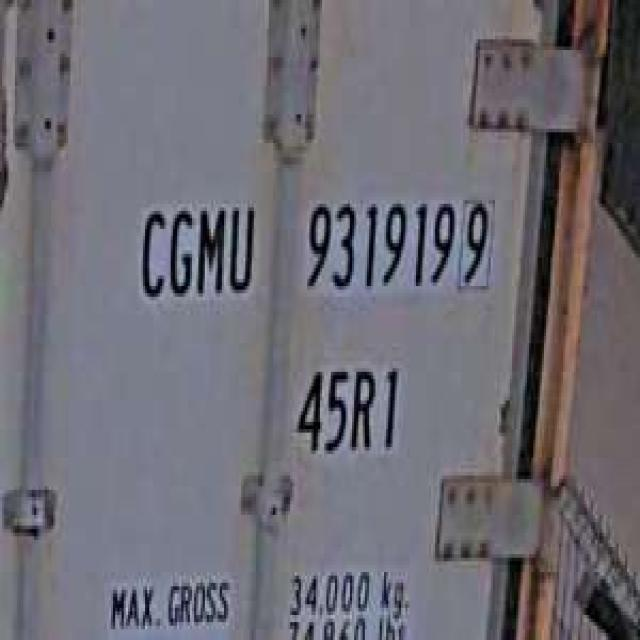dv: (457, 186, 499, 297)
owner: (132, 186, 258, 307)
serial: (299, 182, 454, 304)
size: (288, 350, 405, 465)
